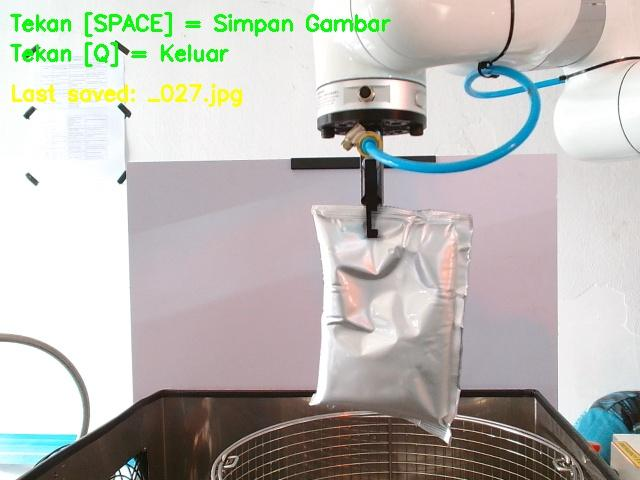retort-pouch: (304, 205, 469, 440)
